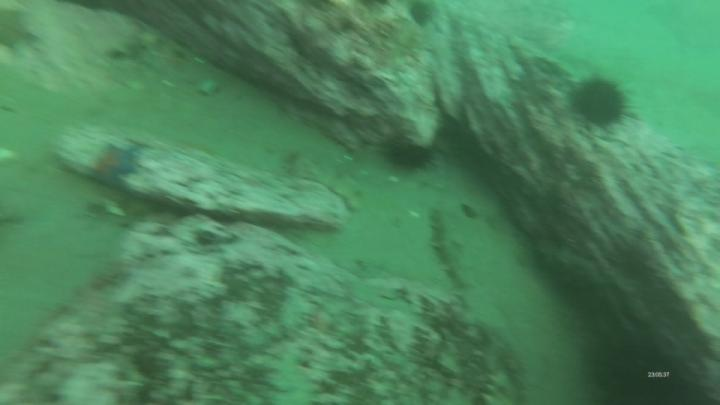echinus: (568, 77, 627, 130), (389, 136, 437, 174)
holothurian: (431, 209, 479, 291)
starfish: (93, 144, 140, 183)
